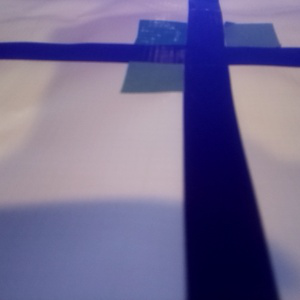bottom_left: (121, 45, 227, 92)
top_left: (134, 18, 222, 59)
top_right: (188, 22, 281, 63)
